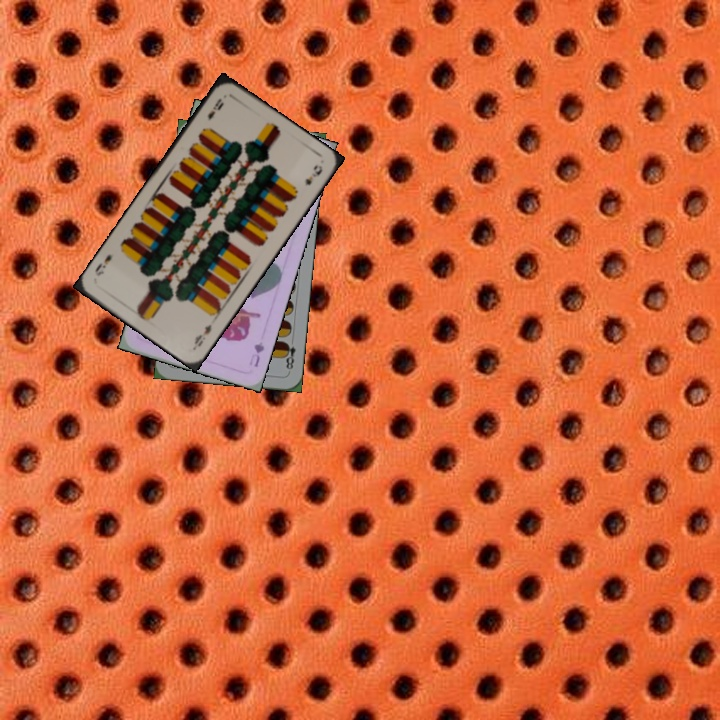E8: (280, 334, 298, 375)
E9: (190, 320, 214, 351), (203, 94, 226, 124)
GU: (245, 338, 267, 370)
